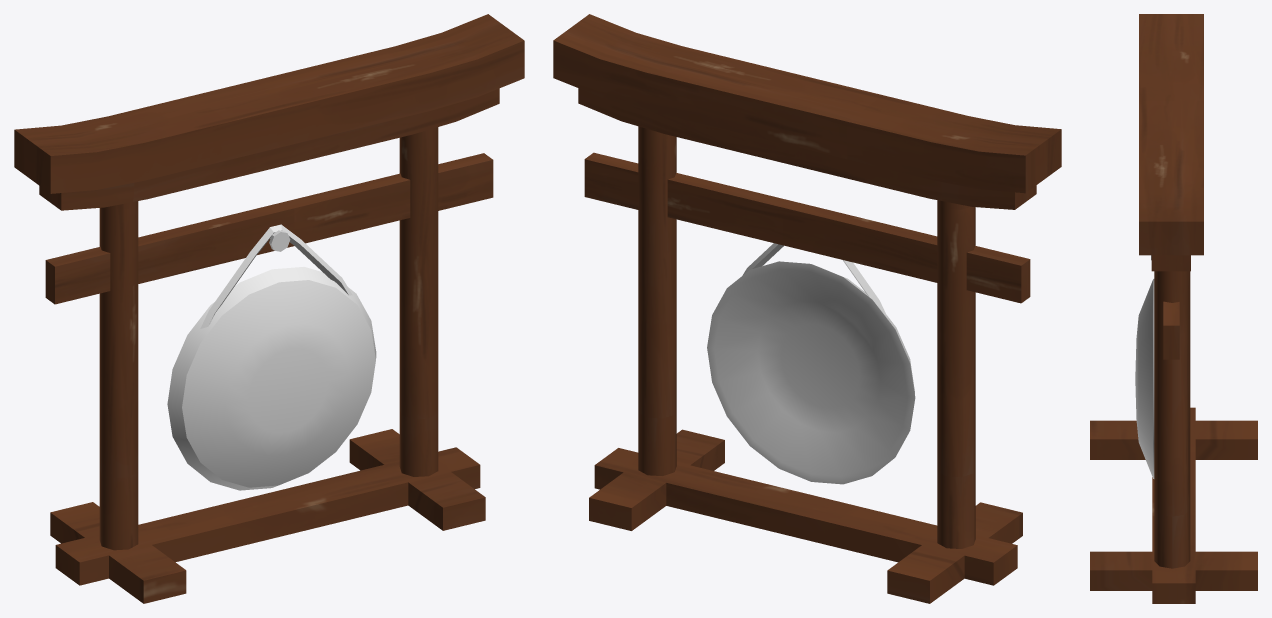
Rendered from Gong.FBX.
The picture shows the model from 3 angles, left to right: view 1: azimuth 30°, elevation 25°; view 2: azimuth 150°, elevation 25°; view 3: azimuth 270°, elevation 25°; orthographic projection. The views are drawn at different scales.
Visible parts, largest first — view 1: Gong, Object001; view 2: Gong, Object001; view 3: Gong, Object001.
Part boxes in pixels (box(x1,y1,x2,y2)): Gong: box(14, 14, 524, 603); Object001: box(167, 224, 376, 490); Gong: box(553, 14, 1061, 603); Object001: box(707, 243, 915, 484); Gong: box(1090, 14, 1257, 603); Object001: box(1135, 255, 1154, 478).
Size of the model in its own units: 7.14 by 6.39 by 2.44.
